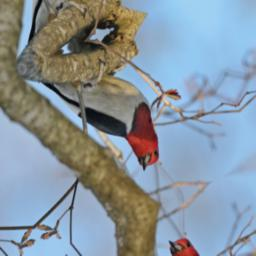Woodpecker: (29, 28, 176, 208)
